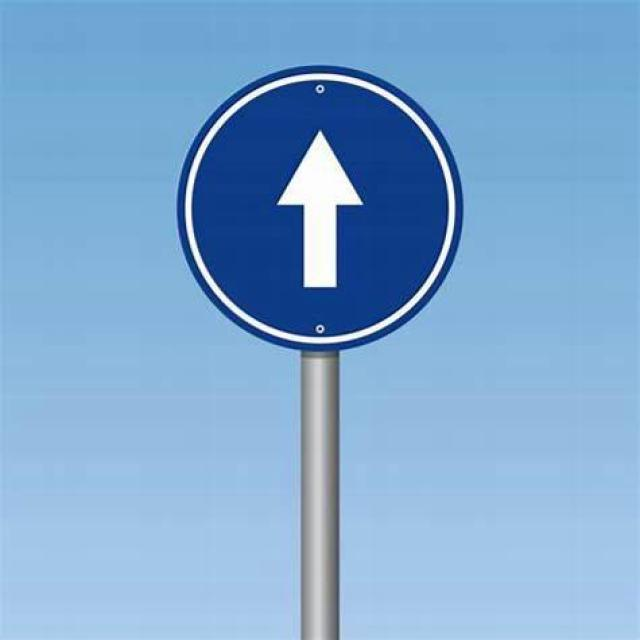compulsary ahead: (182, 62, 449, 355)
